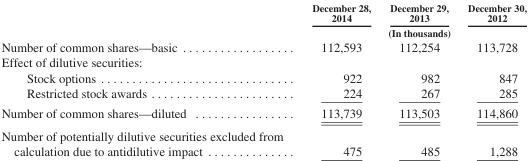table: (0, 1, 525, 157)
table column: (0, 1, 296, 157), (296, 1, 379, 157), (379, 1, 457, 157), (457, 1, 525, 157)
table column header: (0, 1, 525, 39)
table projected row header: (0, 54, 525, 69)
table row: (0, 123, 525, 157), (0, 1, 525, 24), (0, 102, 525, 123), (0, 84, 525, 102), (0, 24, 525, 39), (0, 39, 525, 54), (0, 54, 525, 69), (0, 69, 525, 84)
table spanning cell: (296, 24, 525, 39)
